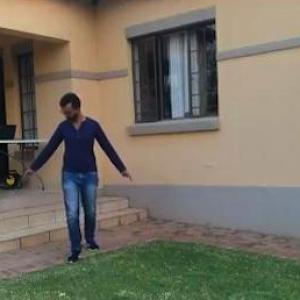land: (27, 88, 136, 268)
